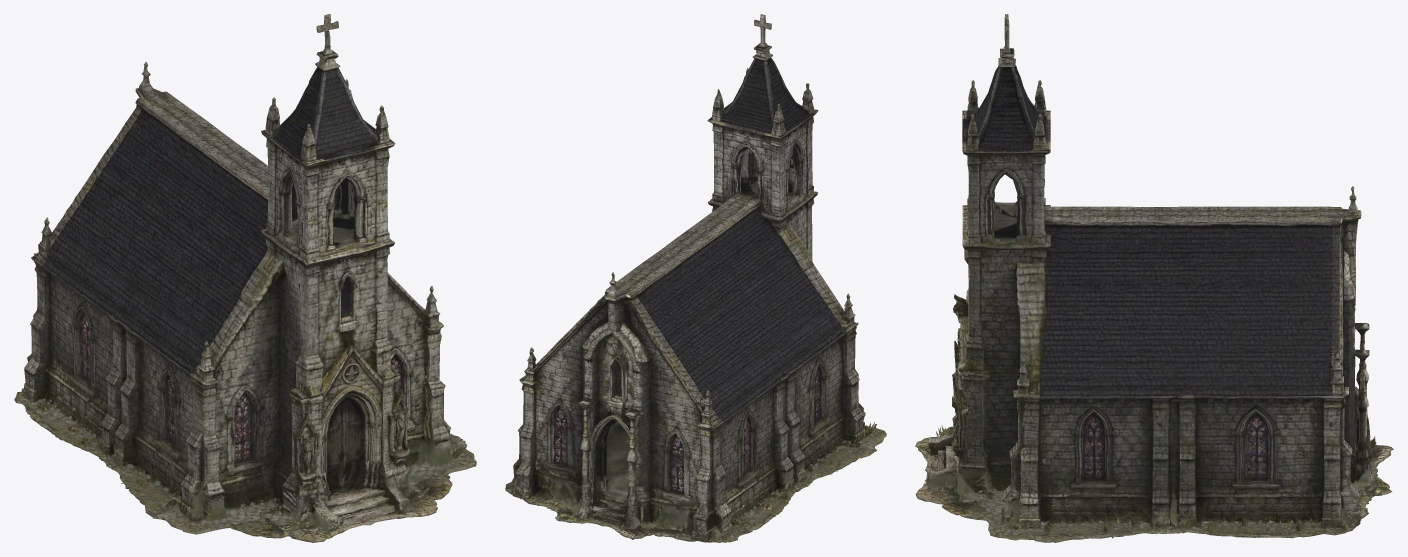
The model's file is mx_dr_church.glb.
3 views of the same model, side by side, from view 1: azimuth 30°, elevation 25°; view 2: azimuth 150°, elevation 25°; view 3: azimuth 270°, elevation 25° (orthographic). The views are drawn at different scales.
Visible parts, largest first — view 1: Mesh_0; view 2: Mesh_0; view 3: Mesh_0.
Part boxes in pixels (x1=…): Mesh_0: x1=14, y1=14, x2=476, y2=542; Mesh_0: x1=505, y1=14, x2=886, y2=542; Mesh_0: x1=915, y1=14, x2=1393, y2=542.
Size of the model in its own units: 1.3 by 1.9 by 1.81.
1 material, 1 textured.
